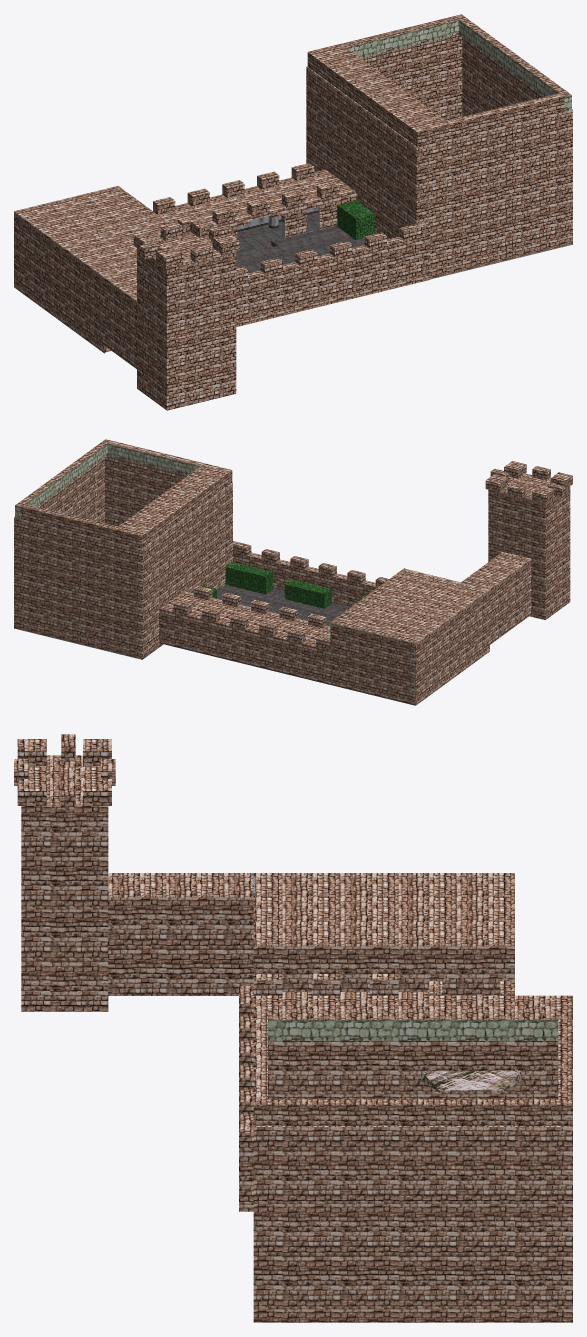
Rendered from level.glb.
3 views of the same model, one above another, from view 1: azimuth 30°, elevation 25°; view 2: azimuth 150°, elevation 25°; view 3: azimuth 270°, elevation 25° (orthographic). The views are drawn at different scales.
Parts seen in each view (by area): view 1: root; view 2: root; view 3: root.
Boxes of the visible parts, bbox=[...] form: root: bbox=[14, 14, 572, 410]; root: bbox=[14, 439, 572, 705]; root: bbox=[14, 734, 572, 1322].
Bounding box in the file's own units: 3648 × 1160 × 2464.
Materials: 39 (39 with a texture image).
